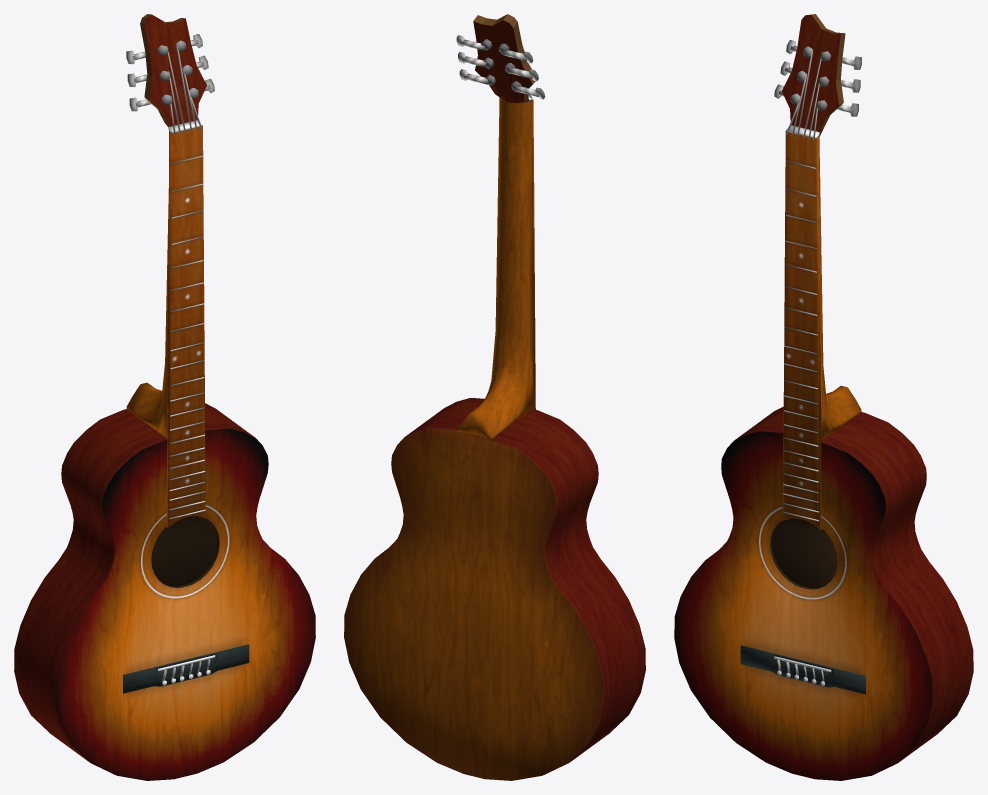
The model's file is GuitarAcoustic.fbx.
The picture shows the model from 3 angles, left to right: view 1: azimuth 30°, elevation 25°; view 2: azimuth 150°, elevation 25°; view 3: azimuth 330°, elevation 25°; orthographic projection.
Parts seen in each view (by area): view 1: guitar; view 2: guitar; view 3: guitar.
Boxes of the visible parts, left/top/right/bottom form: guitar: left=14, top=14, right=315, bottom=780; guitar: left=344, top=14, right=645, bottom=780; guitar: left=674, top=14, right=973, bottom=780.
Bounding box in the file's own units: 17.79 × 48.88 × 5.33.
1 material, 1 textured.
